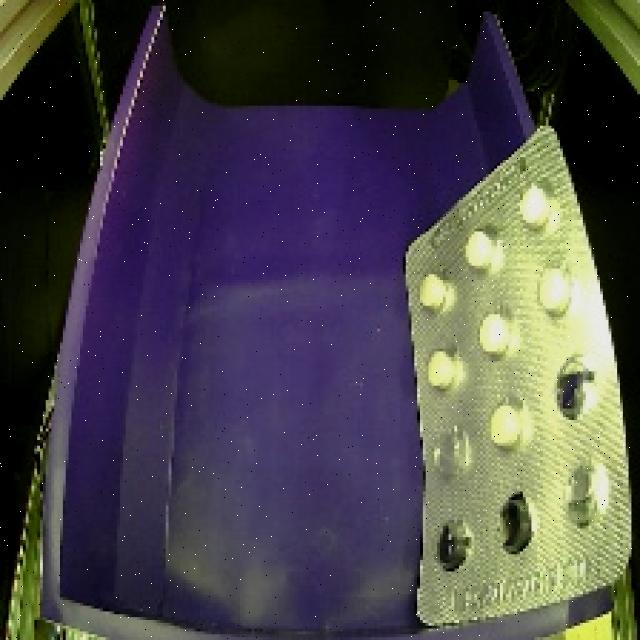med_plate: (397, 108, 640, 640)
